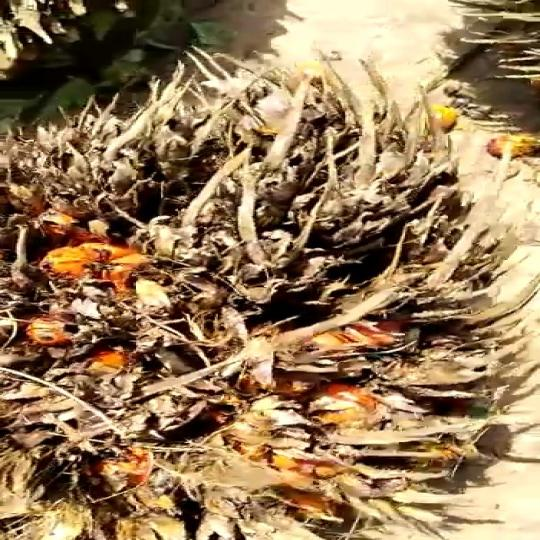terlalu masak: (0, 47, 540, 540)
